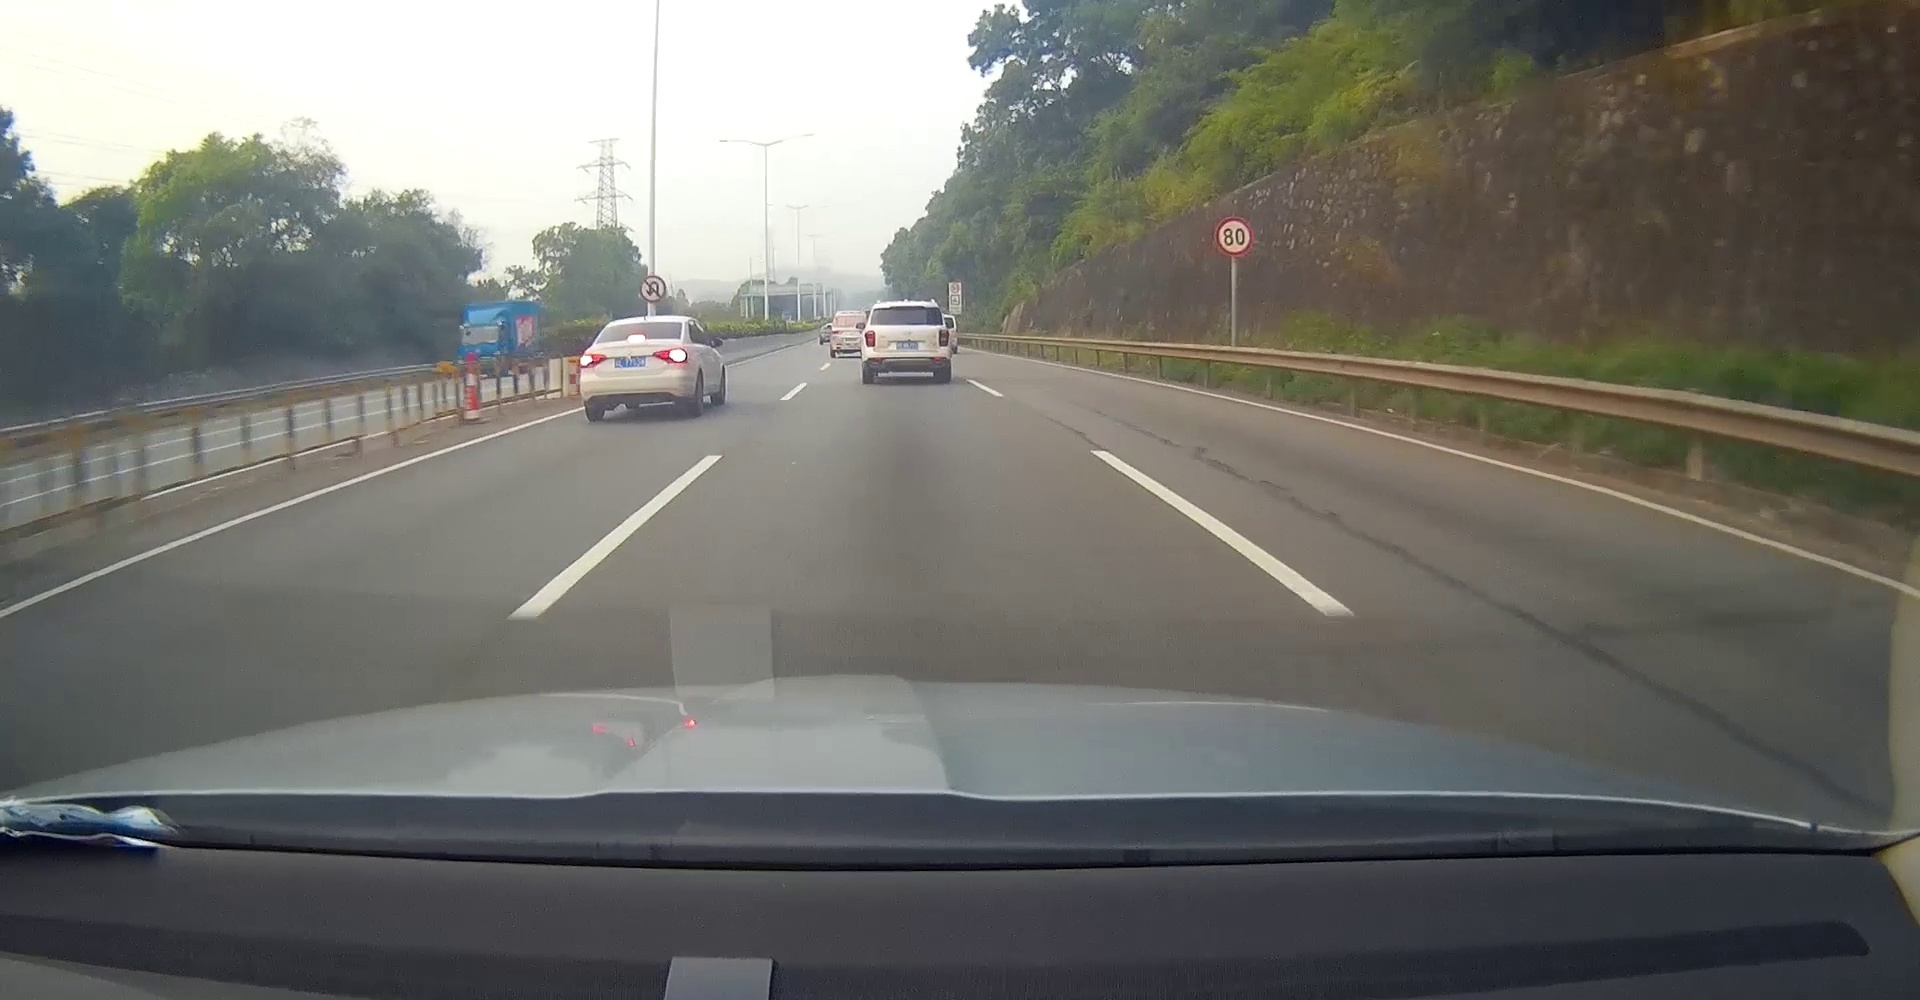L_light: (580, 354, 607, 368), (863, 330, 876, 346)
R_light: (653, 346, 687, 362), (938, 329, 949, 346)
T_light: (627, 335, 645, 341), (890, 306, 924, 308)
day-brake: (579, 315, 688, 423)
day-no: (861, 299, 952, 383)
